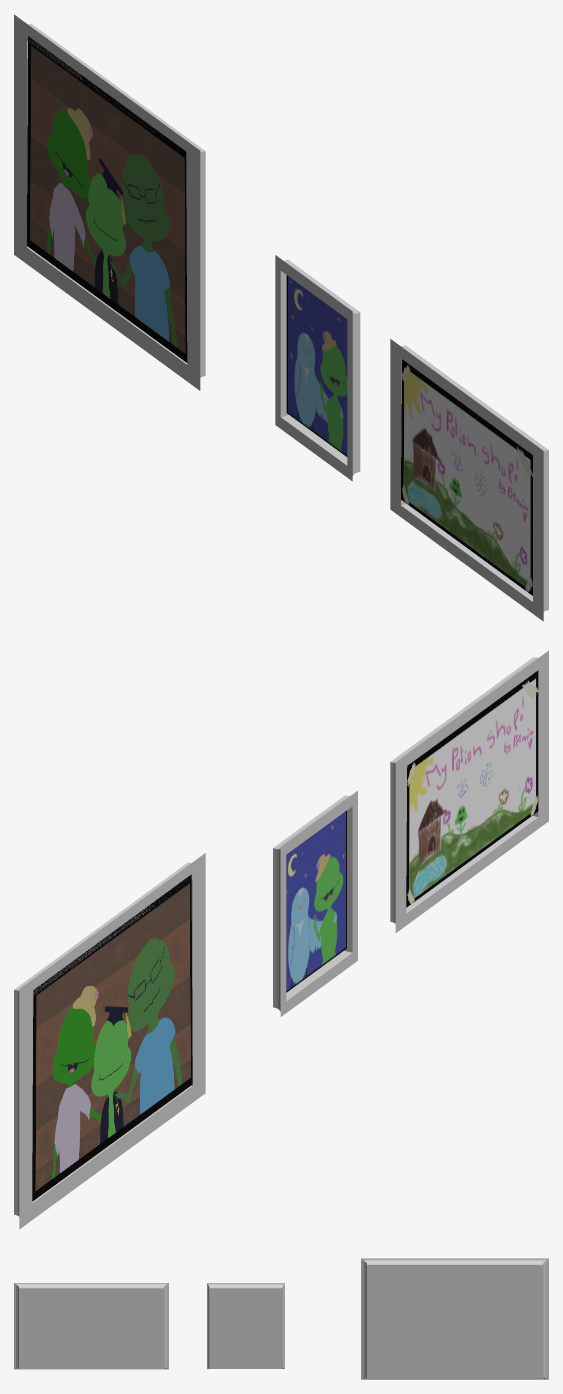
Rendered from Frame pic one.fbx.
The picture shows the model from 3 angles, top to bottom: view 1: azimuth 30°, elevation 25°; view 2: azimuth 150°, elevation 25°; view 3: azimuth 270°, elevation 25°; orthographic projection. The views are drawn at different scales.
Parts seen in each view (by area): view 1: Petunia and family, Petunia's childhood drawing, Frame, Frame.002, Petunia and Gf, Frame.001; view 2: Petunia and family, Petunia's childhood drawing, Frame, Frame.002, Petunia and Gf, Frame.001; view 3: Frame, Frame.002, Frame.001.
Boxes of the visible parts, x1=… form: Petunia and family: x1=27, y1=36, x2=187, y2=362; Petunia's childhood drawing: x1=401, y1=359, x2=532, y2=595; Frame: x1=14, y1=14, x2=205, y2=390; Frame.002: x1=390, y1=339, x2=548, y2=621; Petunia and Gf: x1=286, y1=275, x2=347, y2=456; Frame.001: x1=275, y1=255, x2=360, y2=481; Petunia and family: x1=32, y1=874, x2=192, y2=1201; Petunia's childhood drawing: x1=406, y1=670, x2=538, y2=907; Frame: x1=14, y1=853, x2=205, y2=1229; Frame.002: x1=390, y1=650, x2=548, y2=932; Petunia and Gf: x1=286, y1=810, x2=346, y2=992; Frame.001: x1=273, y1=791, x2=357, y2=1016; Frame: x1=361, y1=1258, x2=548, y2=1379; Frame.002: x1=14, y1=1283, x2=168, y2=1369; Frame.001: x1=207, y1=1283, x2=284, y2=1368.
Bounding box in the file's own units: 8.44 × 681 × 171.
